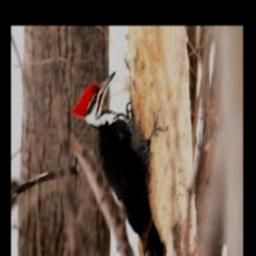Woodpecker: (71, 71, 166, 256)
